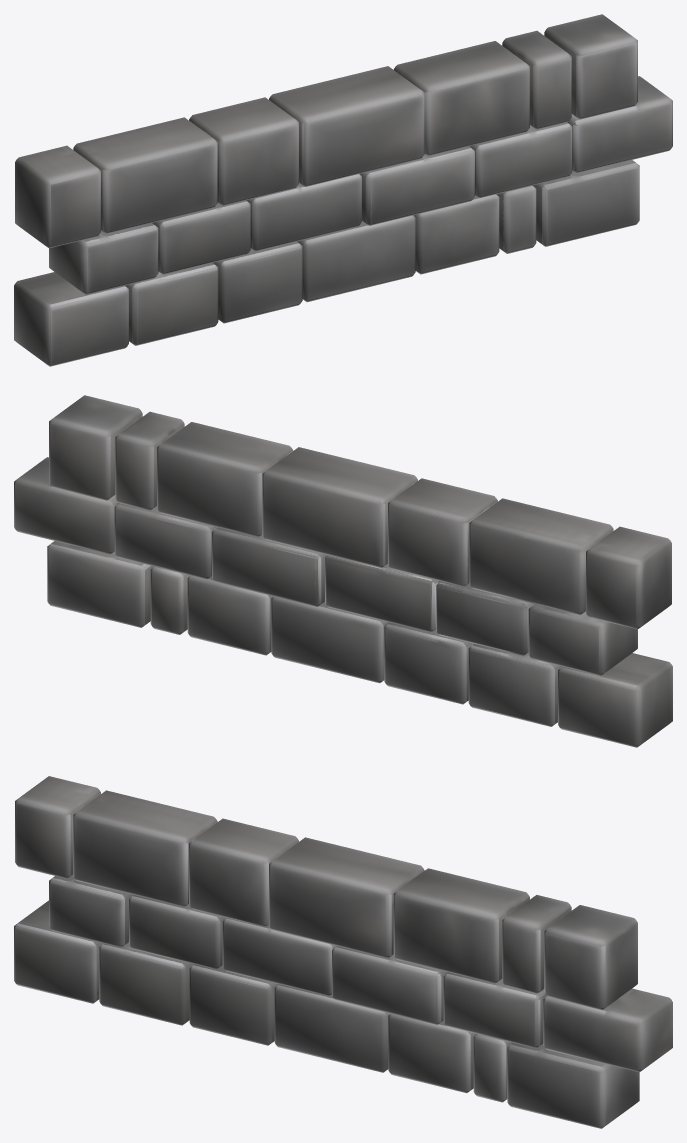
Rendered from LongRuinsWall.glb.
3 renders of one model, top to bottom at view 1: azimuth 30°, elevation 25°; view 2: azimuth 150°, elevation 25°; view 3: azimuth 330°, elevation 25°, orthographic.
Parts seen in each view (by area): view 1: Wall.001; view 2: Wall.001; view 3: Wall.001.
Part boxes in pixels (box(x1,y1,x2,y2)): Wall.001: box(14, 14, 672, 366); Wall.001: box(14, 395, 672, 747); Wall.001: box(14, 776, 672, 1128).
Bounding box in the file's own units: 10.56 × 3 × 1.13.
1 material, 1 textured.
